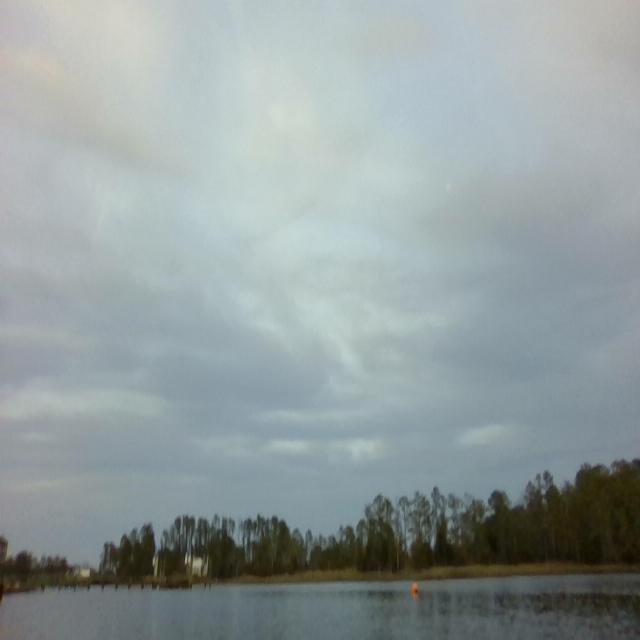Buoy: (411, 580, 420, 596)
